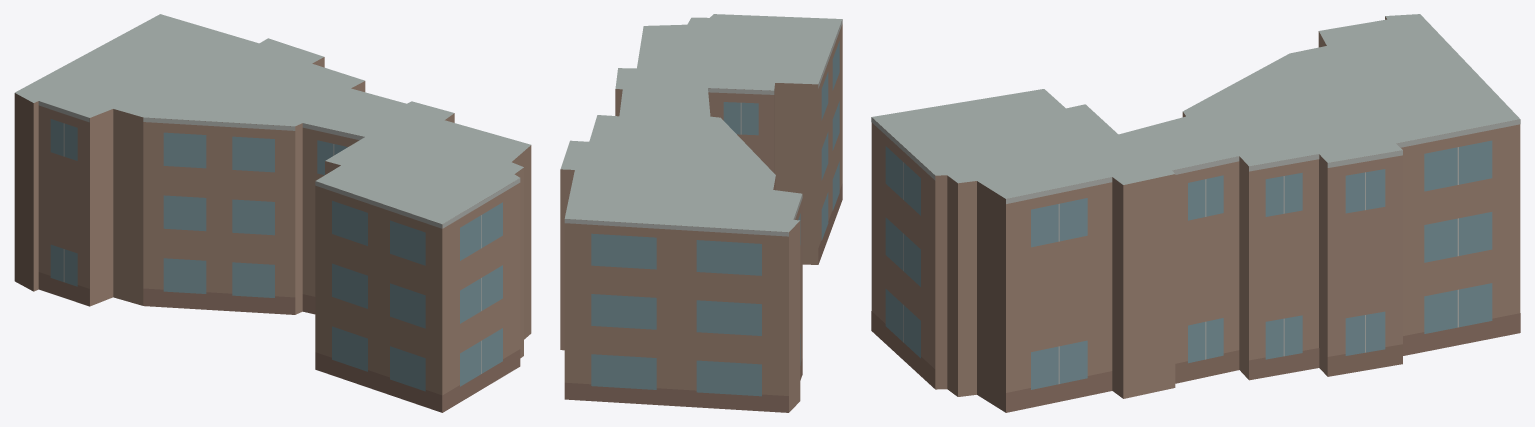
Rendered from survey-upis-32604762.glb.
3 renders of one model, left to right at view 1: azimuth 30°, elevation 25°; view 2: azimuth 150°, elevation 25°; view 3: azimuth 270°, elevation 25°, orthographic. The views are drawn at different scales.
Parts seen in each view (by area): view 1: survey-upis-32604762.tmp; view 2: survey-upis-32604762.tmp; view 3: survey-upis-32604762.tmp.
Boxes of the visible parts, x1,y1,x2,y2 form: survey-upis-32604762.tmp: (14, 14, 531, 412); survey-upis-32604762.tmp: (560, 14, 842, 412); survey-upis-32604762.tmp: (871, 14, 1520, 412).
Size of the model in its own units: 18.75 by 10.1 by 27.78.
